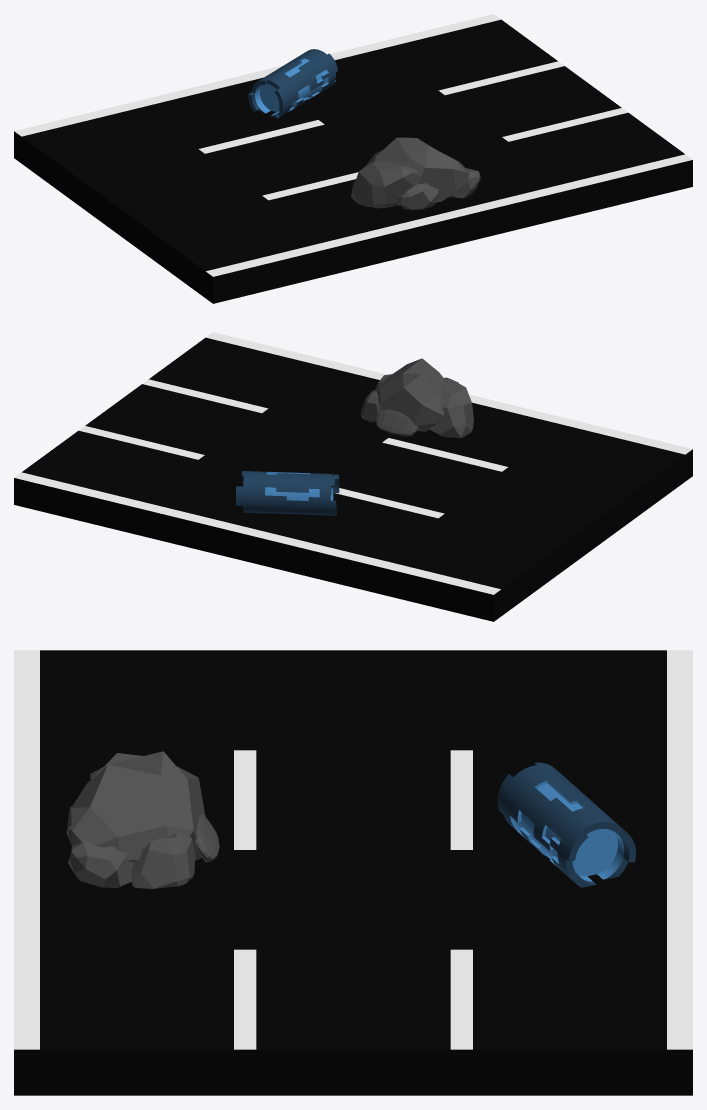
The model's file is Route Rochet V1 Tronc V3.fbx.
The picture shows the model from 3 angles, top to bottom: view 1: azimuth 30°, elevation 25°; view 2: azimuth 150°, elevation 25°; view 3: azimuth 270°, elevation 25°; orthographic projection. The views are drawn at different scales.
Visible parts, largest first — view 1: Route Rochet V1 Tronc V3; view 2: Route Rochet V1 Tronc V3; view 3: Route Rochet V1 Tronc V3.
Boxes of the visible parts, bbox=[...] form: Route Rochet V1 Tronc V3: bbox=[14, 14, 692, 303]; Route Rochet V1 Tronc V3: bbox=[14, 332, 692, 621]; Route Rochet V1 Tronc V3: bbox=[14, 650, 692, 1095].
Size of the model in its own units: 501 by 78.59 by 360.
